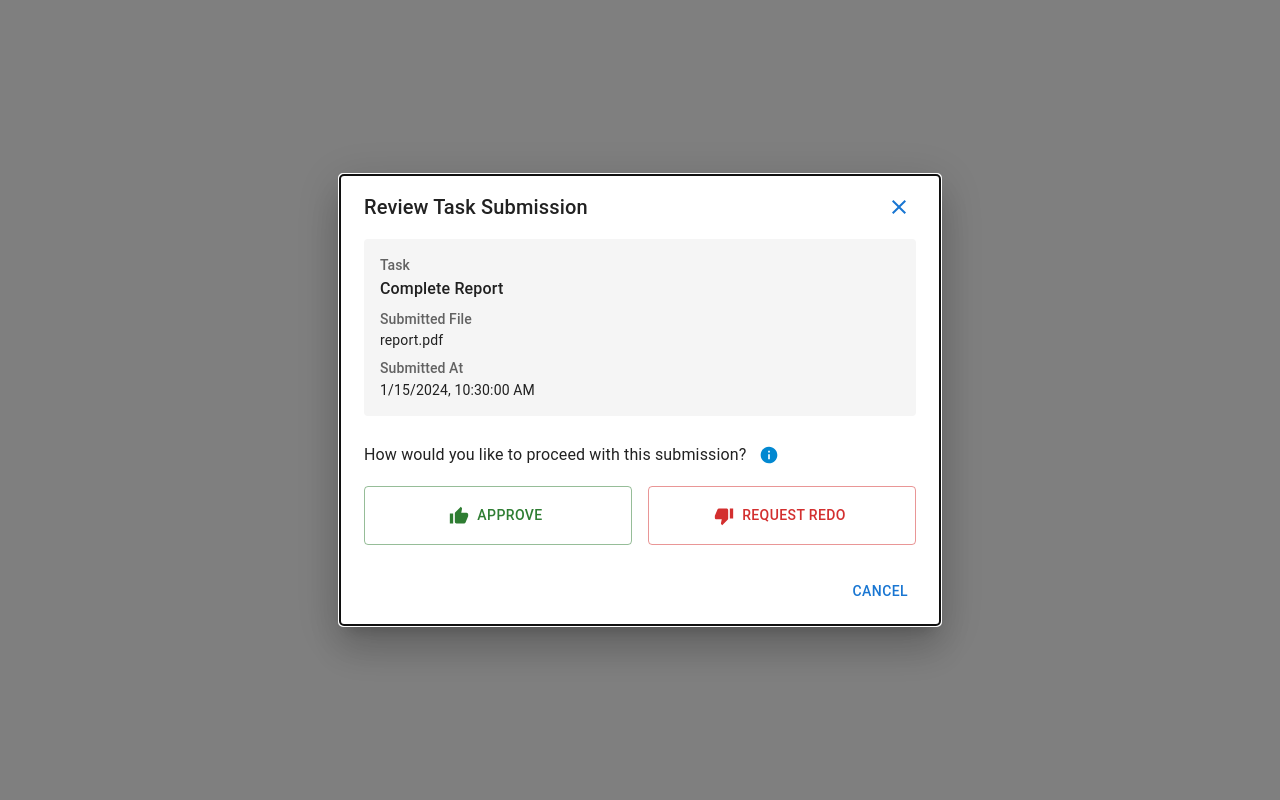
Scenario: ReviewDialog Component › User Interactions › should show approve form when approve is selected
Click the button "Approve".
click(498, 516)  # box [364,486,632,545]
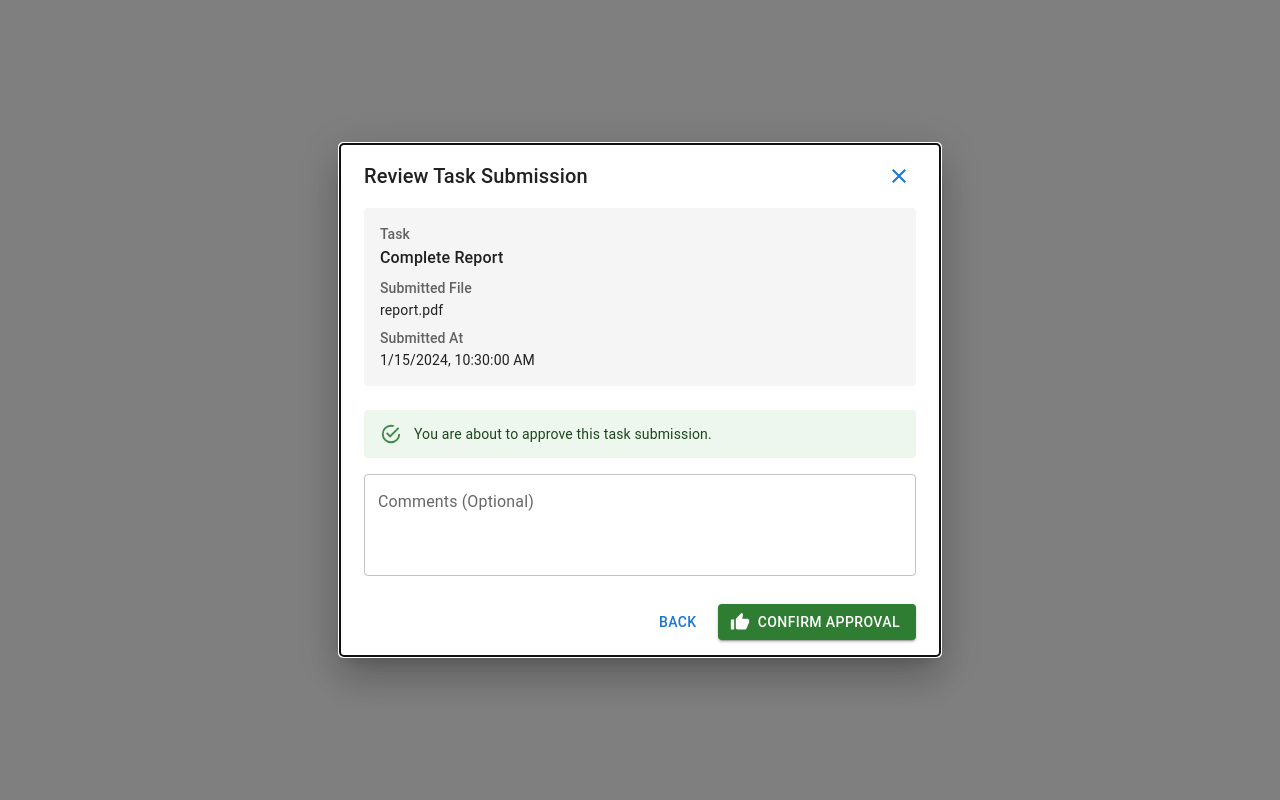
Result: the text "You are about to approve this task submission." is shown at [414,426,712,442]
Result: the text box labelled "Comments (Optional)" is shown at [378,490,902,559]
